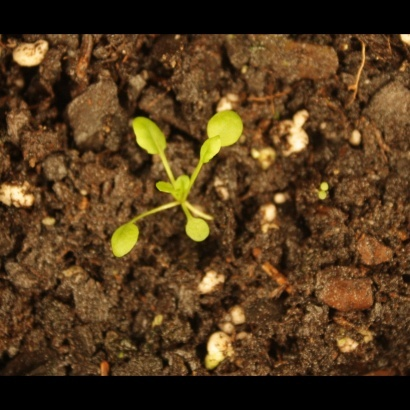leaf: (125, 110, 173, 160), (206, 106, 248, 149), (106, 217, 143, 263), (183, 214, 214, 247), (197, 134, 224, 169), (316, 169, 339, 192), (311, 192, 334, 215), (154, 175, 177, 198), (173, 170, 196, 193)
